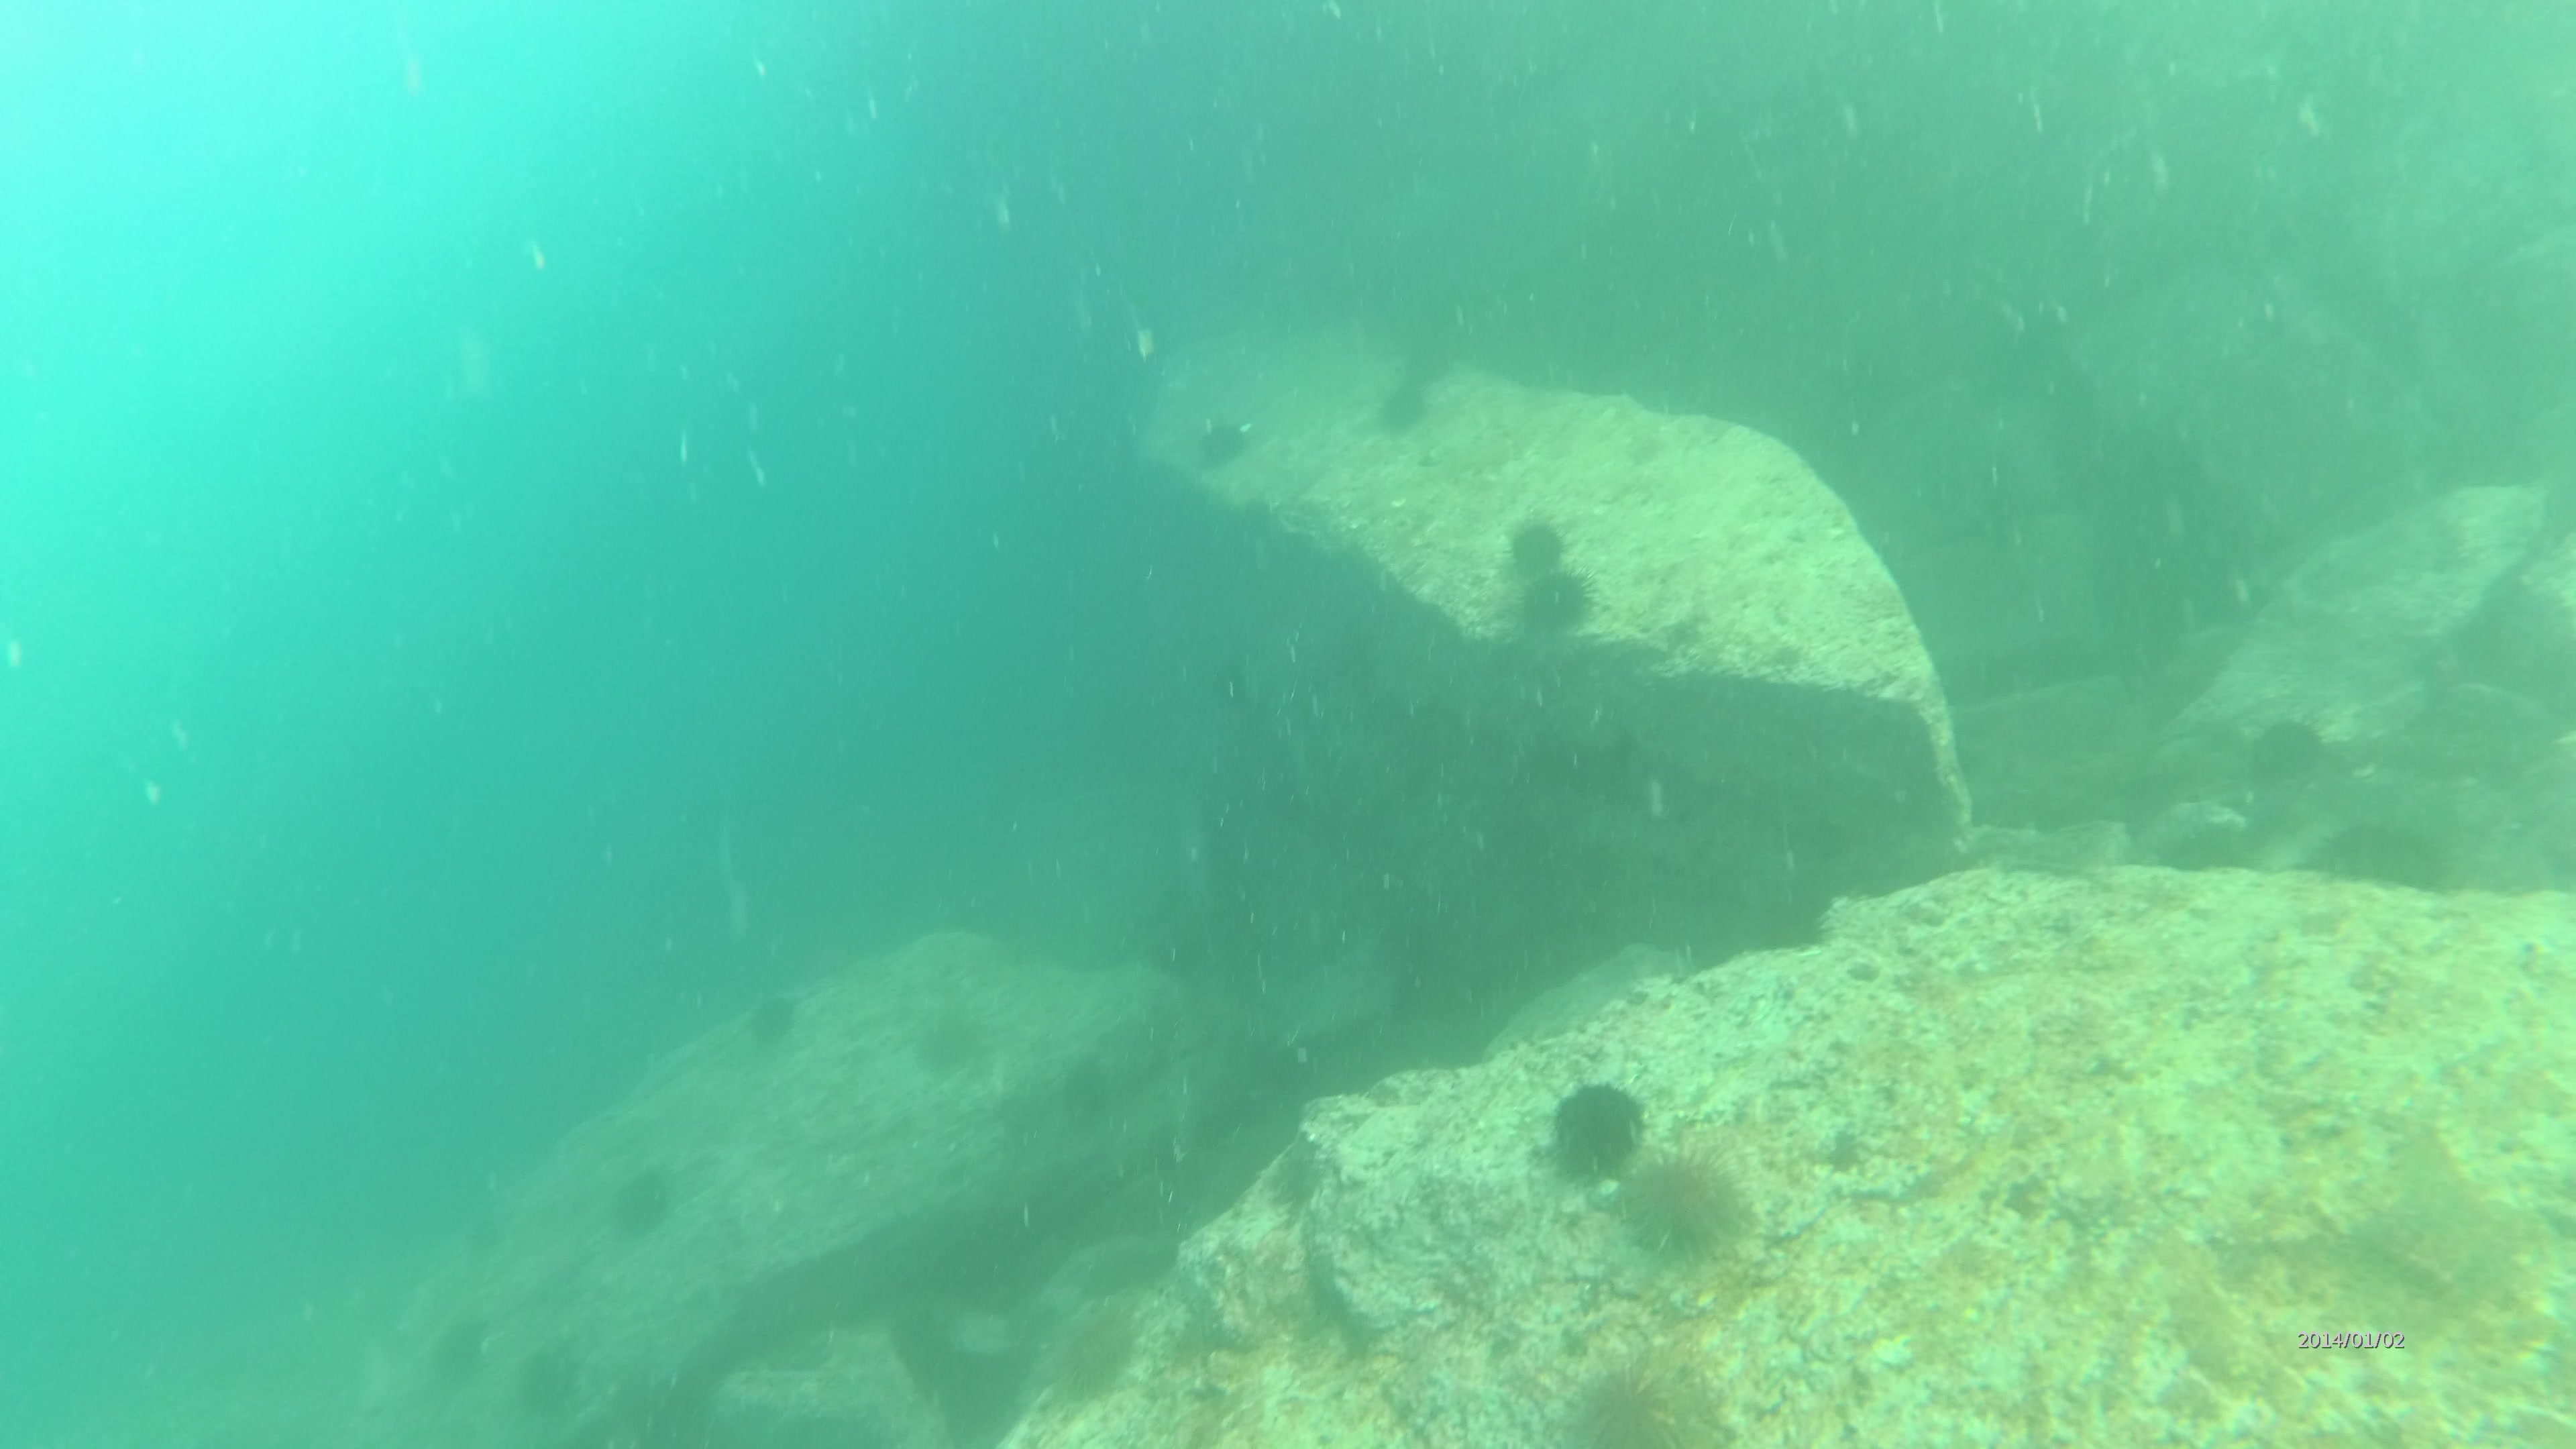echinus: (1580, 1361, 1732, 1449), (1617, 1164, 1753, 1260), (2321, 819, 2438, 901), (1546, 1081, 1649, 1169), (1047, 1300, 1127, 1405), (2155, 823, 2266, 878), (2249, 709, 2334, 775), (1507, 577, 1596, 633), (911, 1008, 987, 1065), (428, 1311, 494, 1373), (511, 1359, 580, 1414), (609, 1182, 674, 1235), (745, 991, 805, 1042), (1497, 527, 1566, 568), (1194, 425, 1237, 474), (1376, 393, 1422, 433), (1403, 334, 1453, 372)
